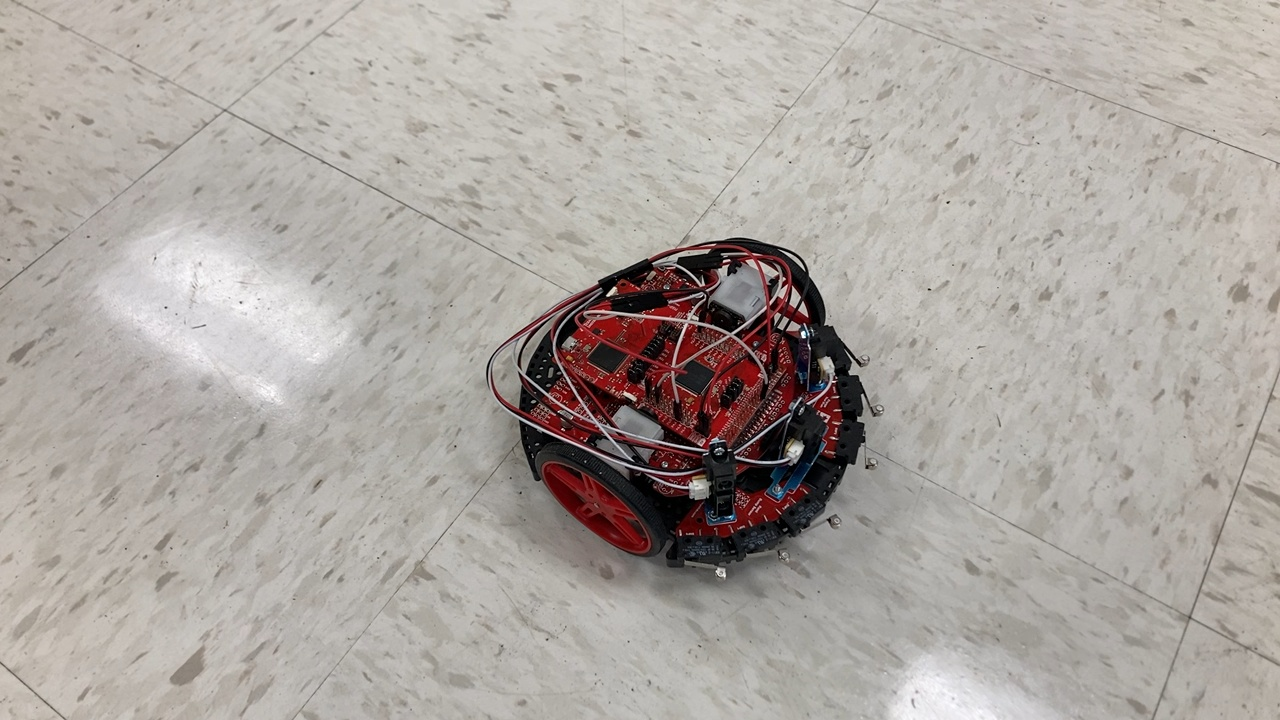robot: (477, 232, 893, 587)
